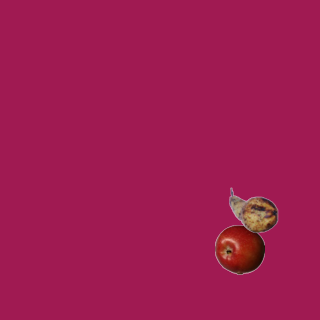Apple Braeburn: (214, 224, 264, 274)
Pear Abate: (228, 185, 278, 235)
